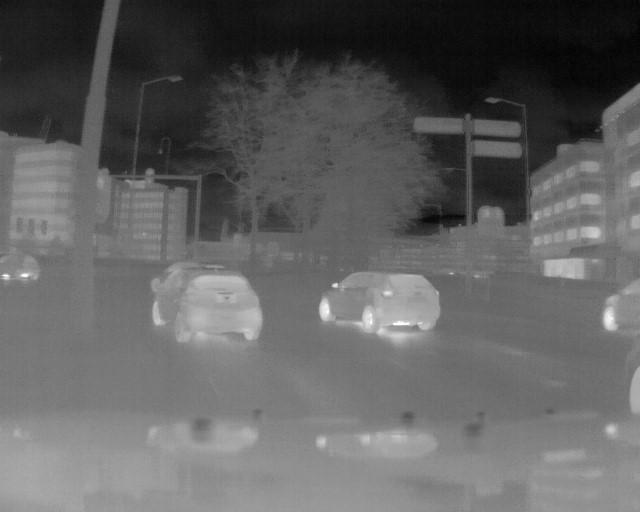car: (150, 266, 269, 343), (315, 268, 445, 334), (1, 249, 42, 285)
